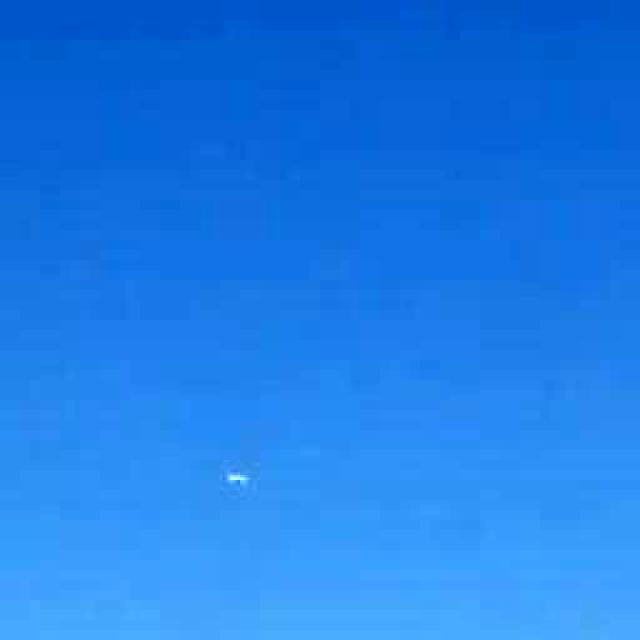bird: (212, 450, 262, 505)
